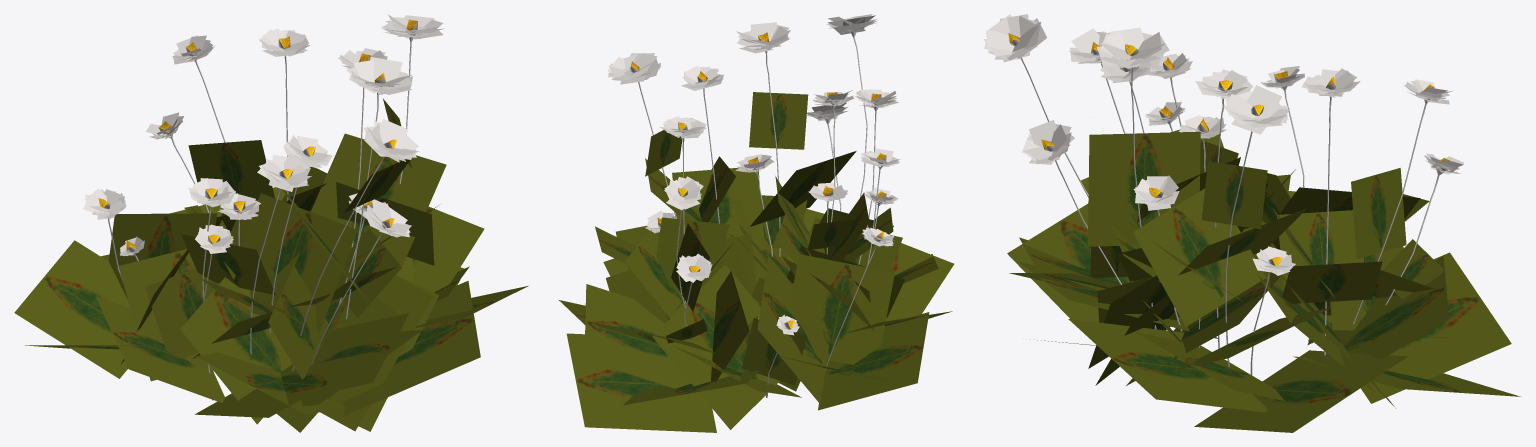
Rendered from SM_Daisy.fbx.
3 views of the same model, side by side, from view 1: azimuth 30°, elevation 25°; view 2: azimuth 150°, elevation 25°; view 3: azimuth 270°, elevation 25° (orthographic). The views are drawn at different scales.
Visible parts, largest first — view 1: SM_Daisy_LOD0; view 2: SM_Daisy_LOD0; view 3: SM_Daisy_LOD0.
Boxes of the visible parts, x1=… form: SM_Daisy_LOD0: x1=14, y1=14, x2=528, y2=432; SM_Daisy_LOD0: x1=559, y1=14, x2=954, y2=432; SM_Daisy_LOD0: x1=983, y1=14, x2=1520, y2=432.
Size of the model in its own units: 149 by 155 by 116.
